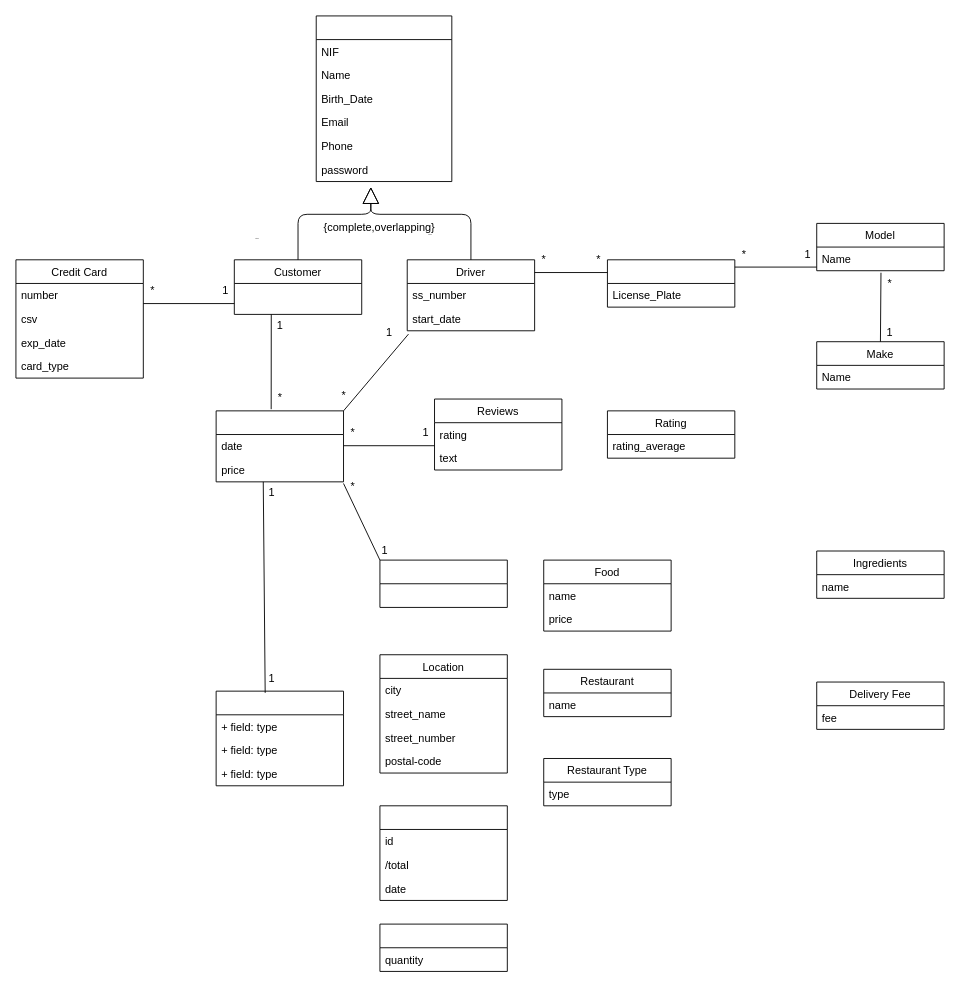
The diagram is 960 pixels wide and 990 high, and some of its shapes have lost their labels. Each missing label, with the box of its shape:
Delivery Location: (379, 559, 507, 607)
Invoice: (379, 805, 507, 900)
Invoice Line: (379, 923, 507, 971)
Order: (215, 410, 344, 482)
Payment Category: (215, 690, 344, 786)
Person: (315, 15, 452, 182)
Vehicle: (607, 259, 735, 307)
